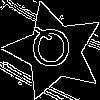Q: (29, 26, 72, 77)
